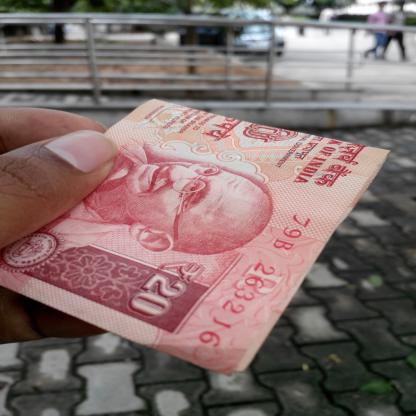Old20Front: (0, 105, 384, 374)
